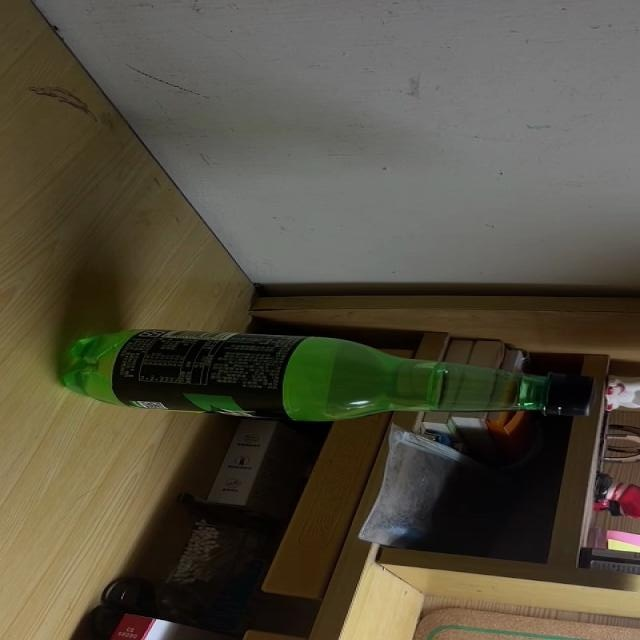Mountain-Dew: (56, 326, 594, 424)
